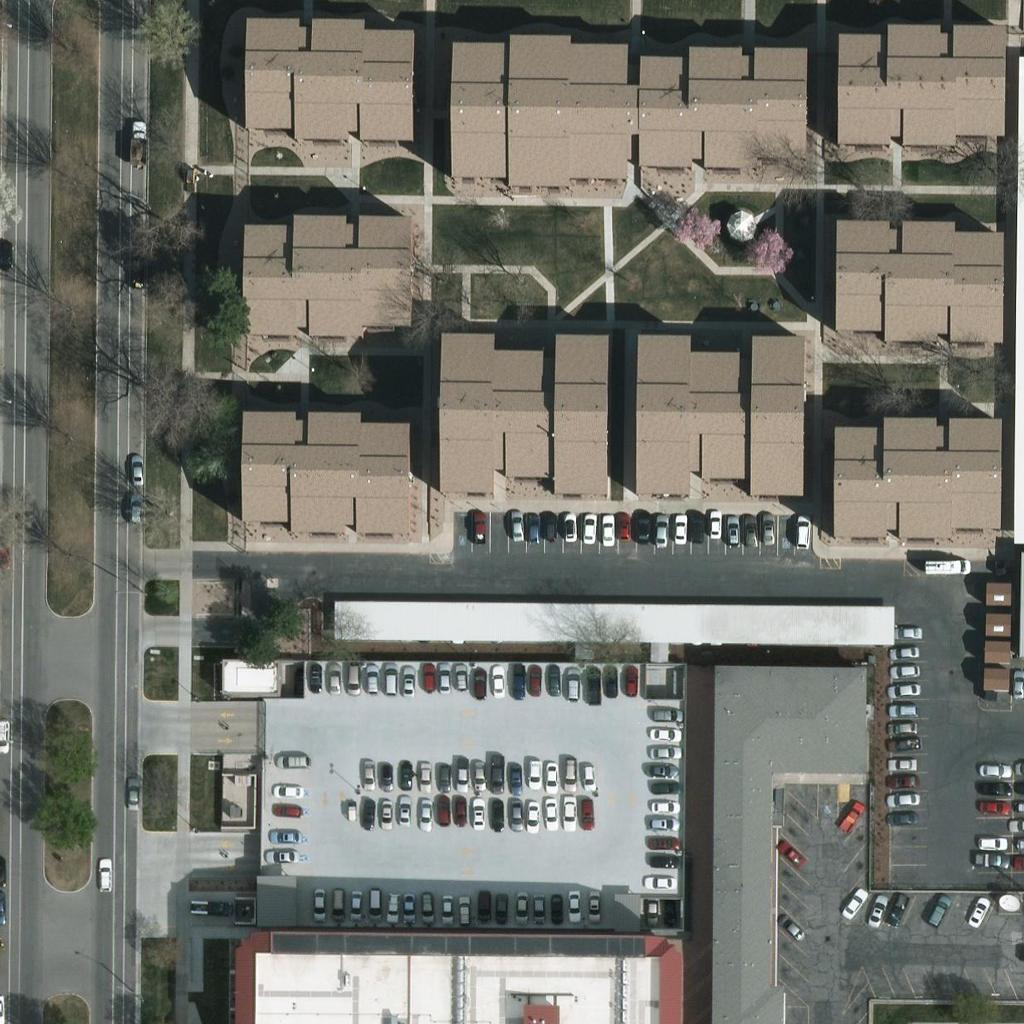car: (121, 118, 155, 152), (119, 254, 153, 288), (119, 452, 153, 486), (119, 493, 153, 527), (696, 506, 730, 540), (499, 508, 533, 542), (552, 508, 586, 542), (462, 509, 496, 543), (532, 509, 566, 543), (515, 510, 549, 544), (681, 510, 715, 544), (625, 511, 659, 545), (571, 512, 605, 546), (605, 513, 639, 547), (643, 513, 677, 547), (661, 513, 695, 547), (751, 513, 785, 547), (590, 514, 624, 548), (733, 514, 767, 548), (785, 515, 819, 549), (715, 516, 749, 550), (888, 614, 922, 648), (886, 634, 920, 668), (885, 653, 919, 687), (296, 658, 330, 692), (411, 659, 445, 693), (427, 660, 461, 694), (443, 660, 477, 694), (336, 661, 370, 695), (372, 661, 406, 695), (502, 661, 536, 695), (316, 662, 350, 696), (355, 663, 389, 697), (391, 663, 425, 697), (464, 663, 498, 697), (482, 663, 516, 697), (518, 663, 552, 697), (535, 663, 569, 697), (577, 665, 611, 699), (593, 665, 627, 699), (556, 666, 590, 700), (613, 667, 647, 701), (884, 672, 918, 706), (886, 691, 920, 725), (652, 695, 686, 729), (884, 709, 918, 743), (647, 714, 681, 748), (885, 728, 919, 762), (647, 733, 681, 767), (271, 744, 305, 778), (883, 747, 917, 781), (647, 752, 681, 786), (975, 752, 1009, 786), (515, 754, 549, 788), (368, 756, 402, 790), (461, 756, 495, 790), (352, 757, 386, 791), (387, 757, 421, 791), (552, 757, 586, 791), (571, 757, 605, 791), (426, 758, 460, 792), (479, 758, 513, 792), (443, 759, 477, 793), (407, 760, 441, 794), (533, 761, 567, 795), (887, 762, 921, 796), (495, 766, 529, 800), (648, 770, 682, 804), (976, 772, 1010, 806), (269, 773, 303, 807), (116, 776, 150, 810), (885, 781, 919, 815), (975, 788, 1009, 822), (647, 789, 681, 823), (272, 793, 306, 827), (425, 793, 459, 827), (443, 793, 477, 827), (569, 793, 603, 827), (387, 794, 421, 828), (533, 795, 567, 829), (352, 796, 386, 830), (409, 796, 443, 830), (482, 796, 516, 830), (499, 796, 533, 830), (553, 796, 587, 830), (461, 797, 495, 831), (367, 798, 401, 832), (836, 798, 870, 832), (515, 799, 549, 833), (883, 800, 917, 834), (646, 806, 680, 840), (266, 820, 300, 854), (643, 825, 677, 859), (973, 826, 1007, 860), (772, 836, 806, 870), (264, 838, 298, 872), (647, 842, 681, 876), (976, 842, 1010, 876), (87, 858, 121, 892), (643, 863, 677, 897), (356, 885, 390, 919), (836, 885, 870, 919), (302, 886, 336, 920), (337, 886, 371, 920), (320, 887, 354, 921), (468, 887, 502, 921), (554, 887, 588, 921), (576, 887, 610, 921), (390, 888, 424, 922), (374, 889, 408, 923), (504, 889, 538, 923), (520, 889, 554, 923), (635, 889, 669, 923), (197, 890, 231, 924), (429, 890, 463, 924), (483, 890, 517, 924), (651, 891, 685, 925), (410, 892, 444, 926), (861, 892, 895, 926), (960, 892, 994, 926), (447, 893, 481, 927), (541, 893, 575, 927), (878, 894, 912, 928), (921, 894, 955, 928), (774, 911, 808, 945), (999, 667, 1024, 701), (0, 236, 23, 270), (0, 534, 20, 568), (0, 719, 16, 753), (0, 853, 16, 887)
